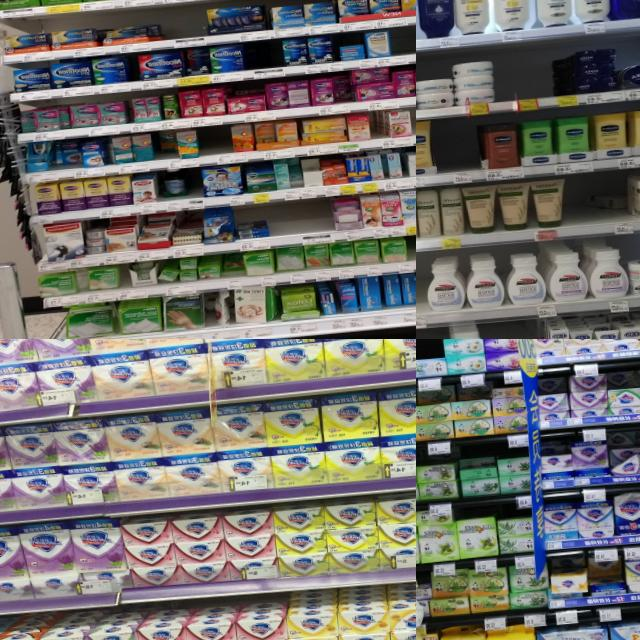100- O.O.S: (492, 48, 552, 112), (268, 198, 332, 248), (434, 120, 479, 186), (163, 4, 206, 48), (244, 39, 284, 79), (566, 173, 590, 238), (198, 124, 233, 164), (389, 23, 416, 64), (484, 320, 540, 339), (184, 168, 204, 209), (406, 234, 416, 271)
